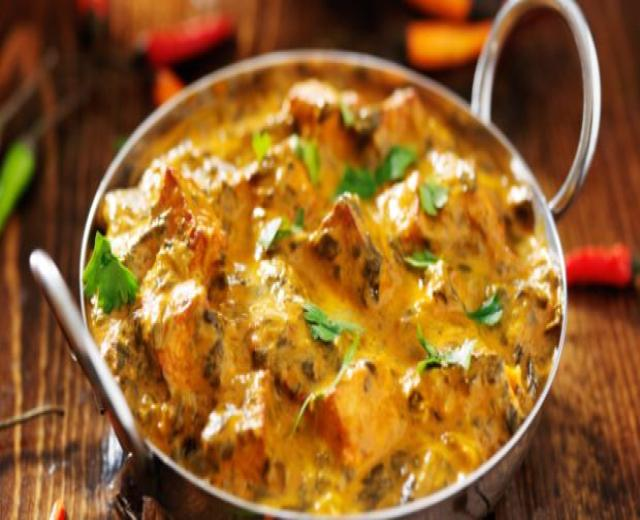kadai paneer: (81, 52, 565, 514)
